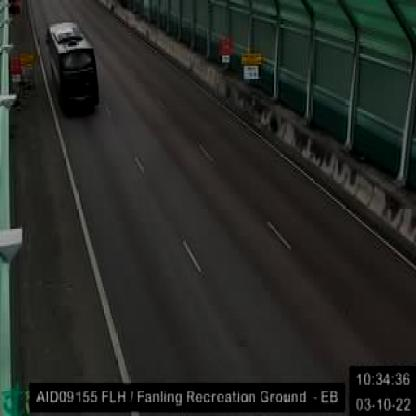Bus: (48, 21, 100, 109)
